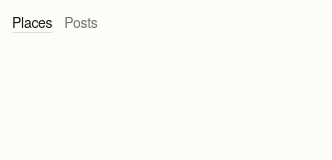
ListViewToggle › defaults to Places and flips the pressed state on click
Expected: the element with test id "list-view-toggle" is shown, x1=12 y1=12 x2=98 y2=32
Click the button with test id "list-view-posts" at (81, 22), box x1=64 y1=12 x2=98 y2=32
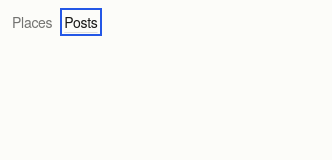
Result: the button with test id "list-view-posts" is pressed at x1=64 y1=12 x2=98 y2=32
Result: the button with test id "list-view-places" is not pressed at x1=12 y1=12 x2=52 y2=32
